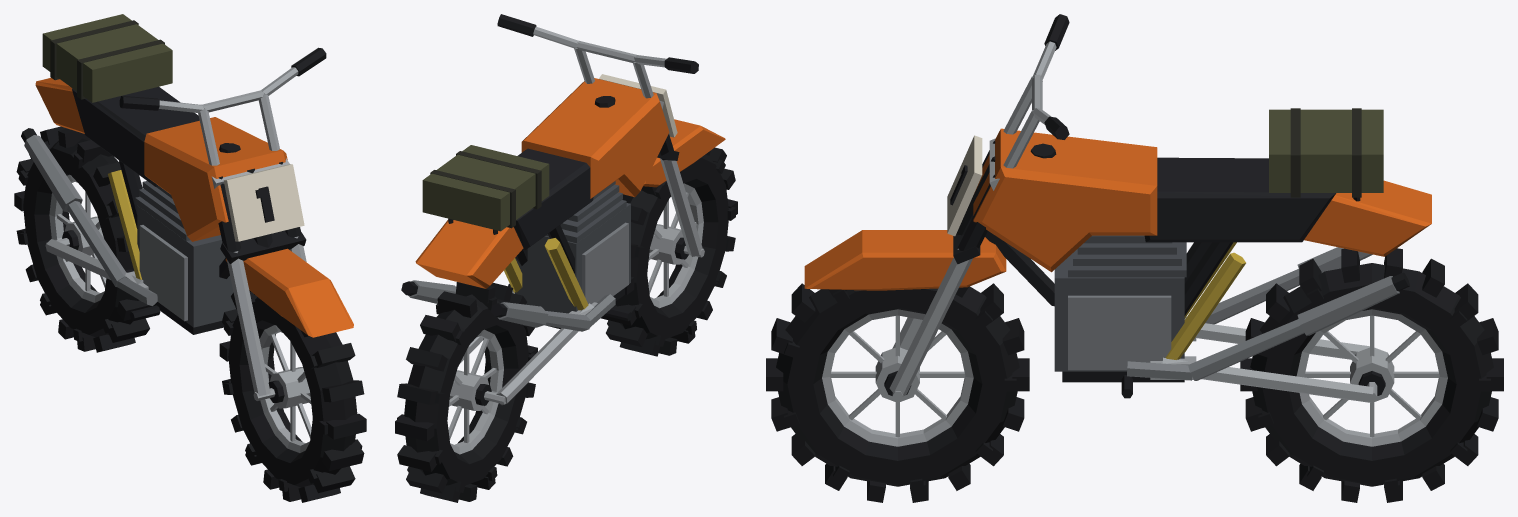
File: scrambler125.glb
The picture shows the model from 3 angles, left to right: view 1: azimuth 30°, elevation 25°; view 2: azimuth 150°, elevation 25°; view 3: azimuth 270°, elevation 25°; orthographic projection. The views are drawn at different scales.
Visible parts, largest first — view 1: Wheel_Front_Tire, Fuel_Tank, Wheel_Rear_Tire, Bedroll_Bag, Fender_Front_High, Seat, Plate_Board, Engine_Block, Engine_Side_Covers, Fork_Slider, Exhaust_Muffler, Rear_Tail_Fender (+31 smaller); view 2: Fuel_Tank, Wheel_Rear_Tire, Wheel_Front_Tire, Bedroll_Bag, Rear_Tail_Fender, Seat, Engine_Block, Engine_Side_Covers, Fender_Front_High, Yellow_Shock_Spring (×2), Fork_Slider, Wheel_Rear_Rim (+27 smaller); view 3: Wheel_Front_Tire, Wheel_Rear_Tire, Fuel_Tank, Seat, Fender_Front_High, Bedroll_Bag, Engine_Side_Covers, Rear_Tail_Fender, Engine_Block, Swingarm (×2), Wheel_Front_Rim, Wheel_Rear_Rim (+15 smaller).
Boxes of the visible parts, bbox=[...] form: Wheel_Front_Tire: bbox=[228, 297, 357, 487]; Fuel_Tank: bbox=[144, 117, 287, 241]; Wheel_Rear_Tire: bbox=[23, 138, 138, 337]; Bedroll_Bag: bbox=[42, 14, 172, 102]; Fender_Front_High: bbox=[225, 248, 353, 337]; Seat: bbox=[72, 86, 199, 186]; Plate_Board: bbox=[223, 164, 304, 241]; Engine_Block: bbox=[137, 205, 235, 327]; Engine_Side_Covers: bbox=[139, 225, 187, 321]; Fork_Slider: bbox=[226, 251, 270, 396]; Exhaust_Muffler: bbox=[24, 135, 82, 212]; Rear_Tail_Fender: bbox=[35, 78, 84, 133]; Fuel_Tank: bbox=[521, 78, 669, 198]; Wheel_Rear_Tire: bbox=[404, 294, 528, 485]; Wheel_Front_Tire: bbox=[615, 155, 728, 339]; Bedroll_Bag: bbox=[422, 145, 549, 231]; Rear_Tail_Fender: bbox=[415, 219, 523, 288]; Seat: bbox=[514, 148, 593, 250]; Engine_Block: bbox=[515, 203, 630, 313]; Engine_Side_Covers: bbox=[582, 222, 628, 303]; Fender_Front_High: bbox=[643, 119, 725, 187]; Yellow_Shock_Spring (×2): bbox=[504, 238, 588, 310]; Fork_Slider: bbox=[660, 158, 702, 256]; Wheel_Rear_Rim: bbox=[450, 329, 503, 454]; Wheel_Front_Tire: bbox=[776, 286, 1019, 486]; Wheel_Rear_Tire: bbox=[1250, 263, 1493, 486]; Fuel_Tank: bbox=[973, 128, 1157, 272]; Seat: bbox=[1144, 157, 1336, 242]; Fender_Front_High: bbox=[804, 230, 1006, 290]; Bedroll_Bag: bbox=[1269, 109, 1383, 192]; Engine_Side_Covers: bbox=[1068, 295, 1171, 370]; Rear_Tail_Fender: bbox=[1304, 180, 1431, 256]; Engine_Block: bbox=[1054, 258, 1184, 371]; Swingarm (×2): bbox=[1162, 323, 1373, 402]; Wheel_Front_Rim: bbox=[822, 309, 973, 446]; Wheel_Rear_Rim: bbox=[1296, 309, 1447, 446].
Size of the model in its own units: 0.7124 by 1.22 by 1.93.
